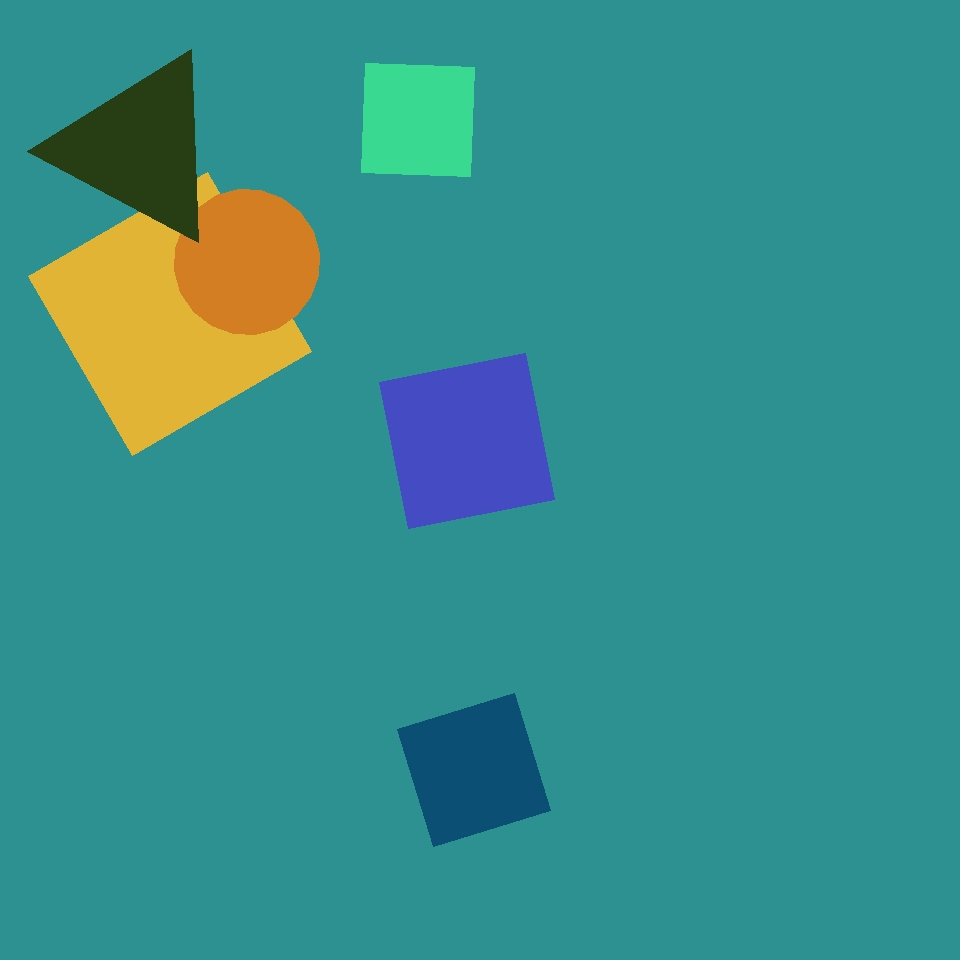circle: (214, 270, 450, 510), (54, 52, 225, 244)
square: (29, 172, 312, 456), (380, 354, 554, 528), (398, 694, 550, 846), (78, 316, 214, 452), (362, 64, 474, 176)
triangle: (174, 190, 319, 334)
